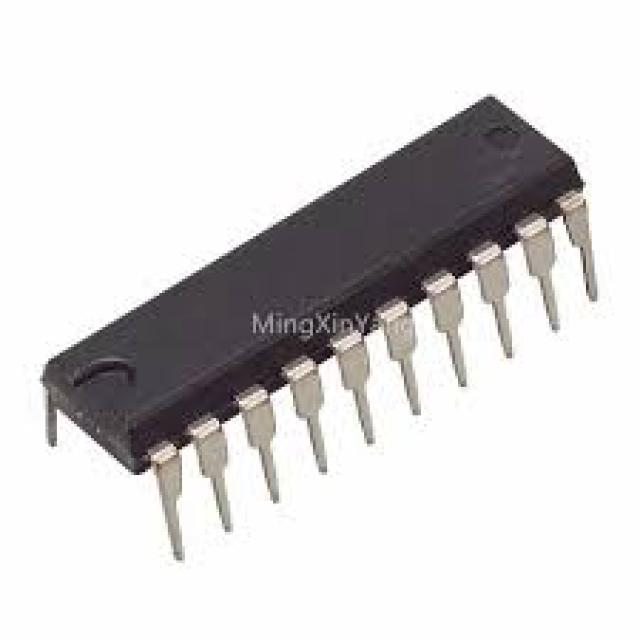IC chip: (40, 97, 592, 475)
